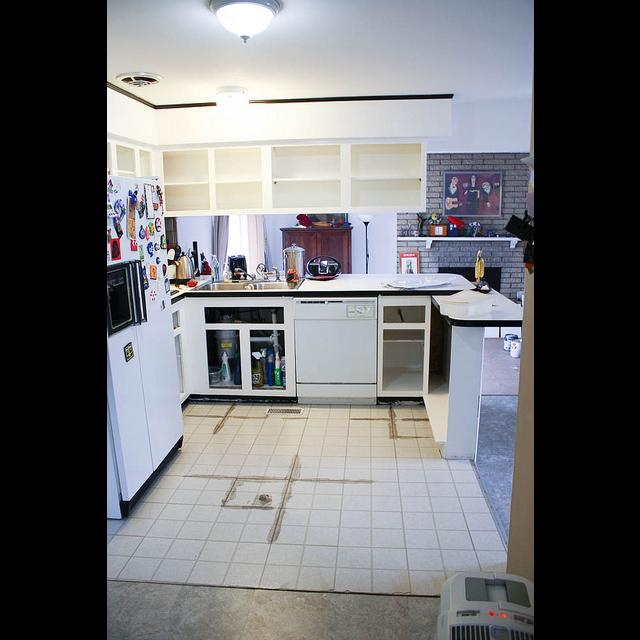Refrigerator: (106, 172, 183, 521)
